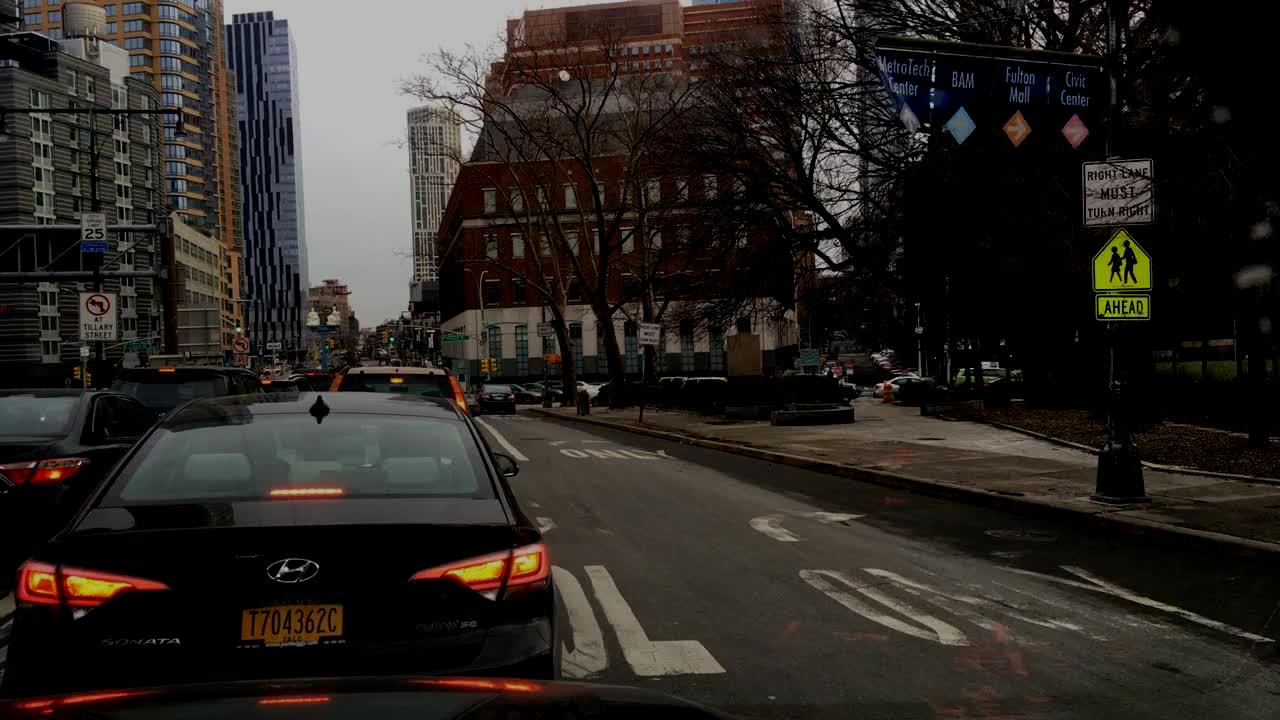Hyundai: (261, 552, 323, 590)
